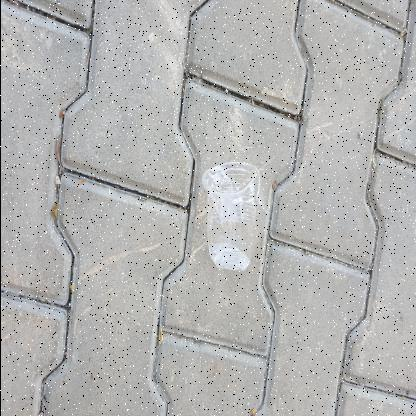plastic: (200, 163, 260, 270)
